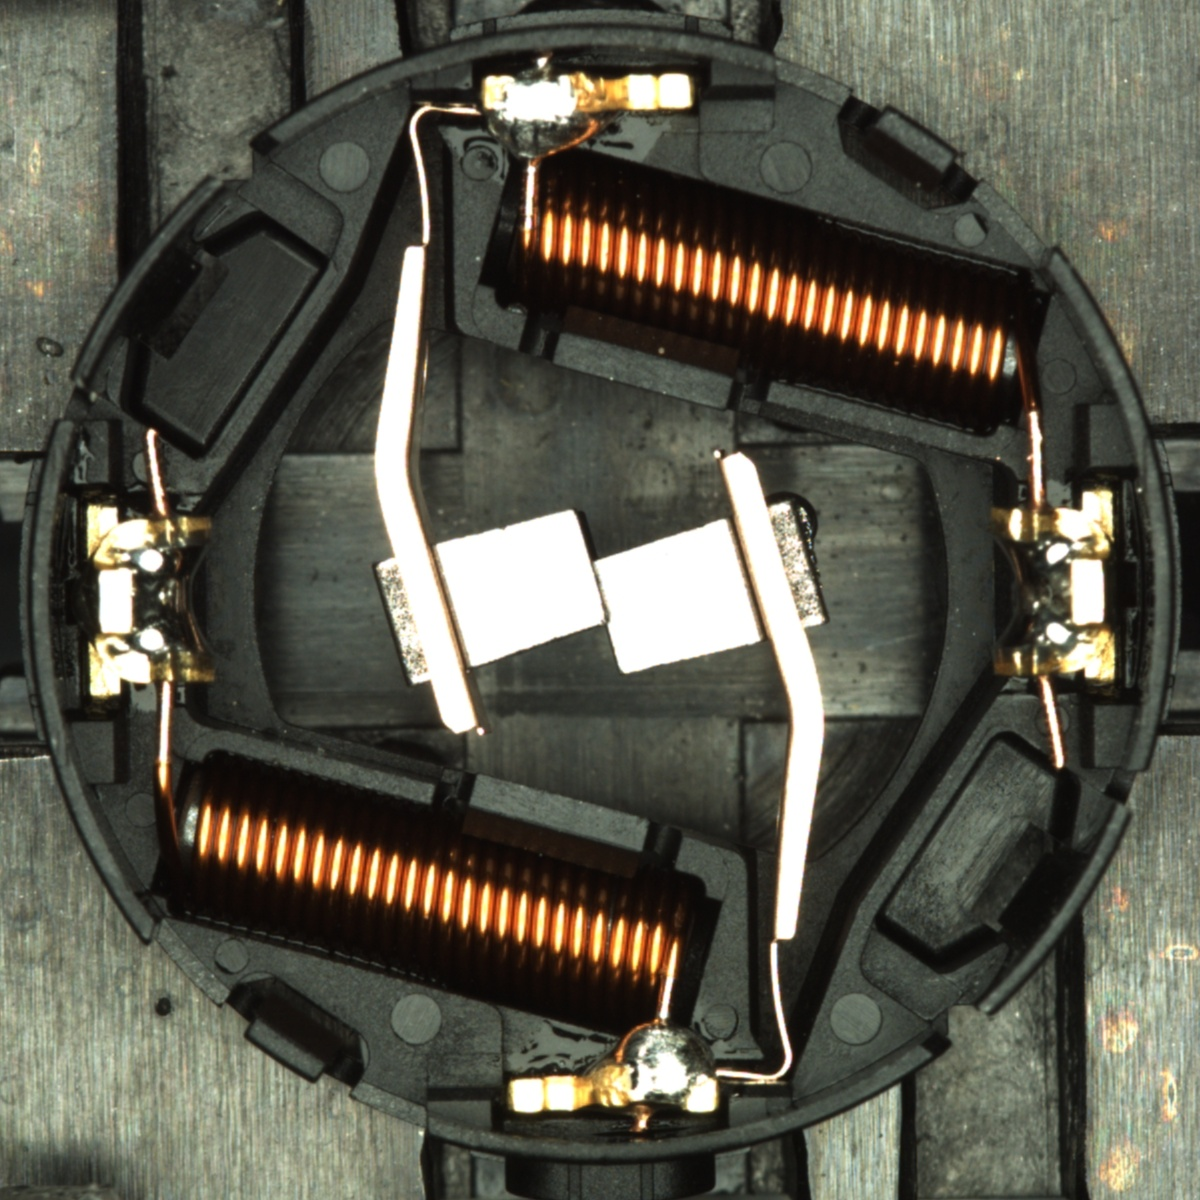1: (258, 55, 487, 279), (716, 953, 945, 1177)
2: (716, 55, 945, 279), (258, 953, 487, 1177)
3: (28, 279, 258, 504), (945, 728, 1175, 953)
4: (258, 279, 487, 504), (716, 728, 945, 953)
5: (487, 167, 716, 392), (487, 840, 716, 1065)
6: (716, 279, 945, 504), (258, 728, 487, 953)
7: (945, 279, 1175, 504), (28, 728, 258, 953)
chau_dien: (79, 499, 220, 700), (983, 488, 1122, 688)
tay_choi: (508, 1016, 721, 1116), (480, 68, 698, 165)
thanh_de: (952, 787, 1140, 1031), (58, 163, 244, 404)
vun_chi: (764, 490, 819, 536), (793, 497, 821, 568)
